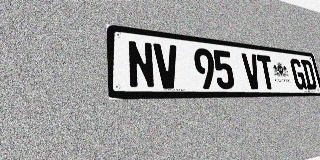5: (213, 49, 236, 89)
9: (193, 47, 217, 89)
D: (301, 59, 317, 89)
G: (289, 58, 307, 89)
N: (126, 40, 156, 89)
T: (256, 54, 276, 89)
V: (153, 43, 181, 89), (241, 53, 262, 89)
